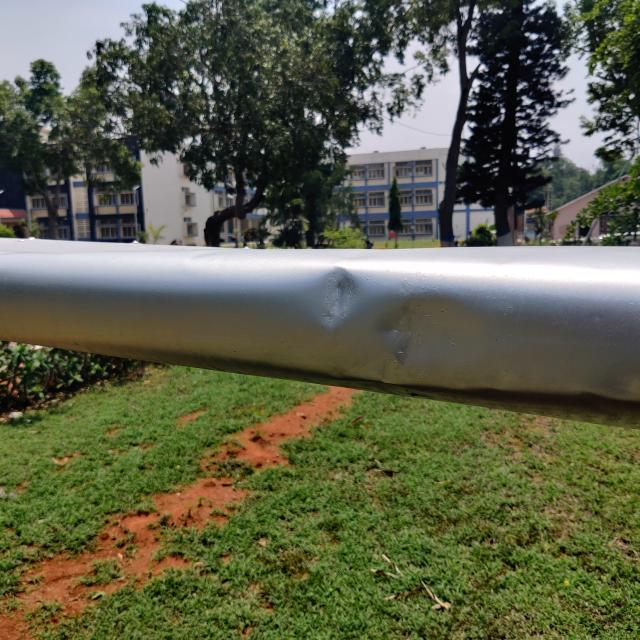dent: (361, 286, 468, 401), (295, 254, 378, 344)
